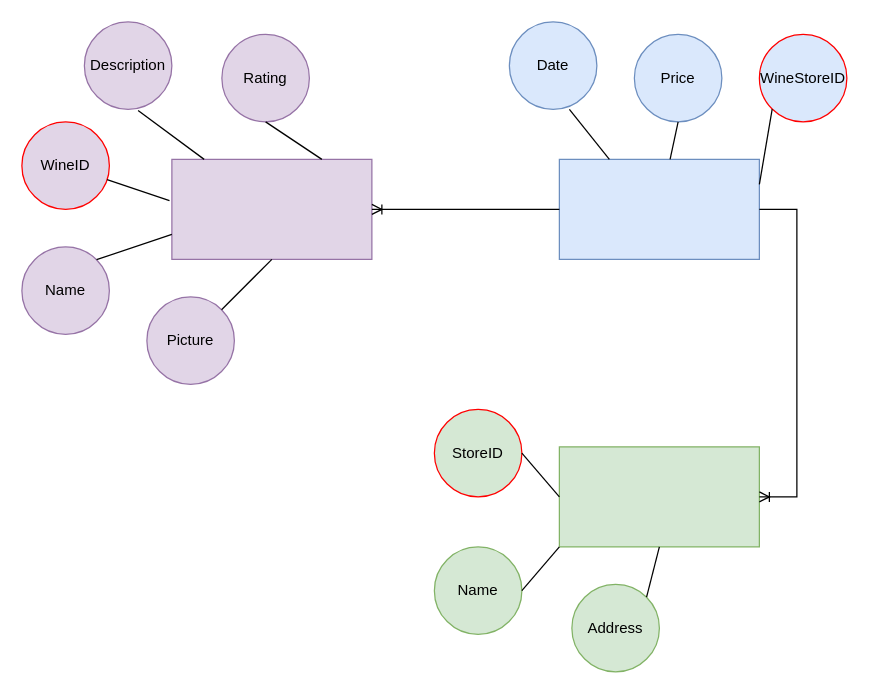
The diagram is 869 pixels wide and 694 high, and some of its shapes have lost their labels. Each missing label, with the centre of its shape:
"Store" goes at point 658,496.
"Wine" goes at point 271,208.
"WineStore" goes at point 658,208.
